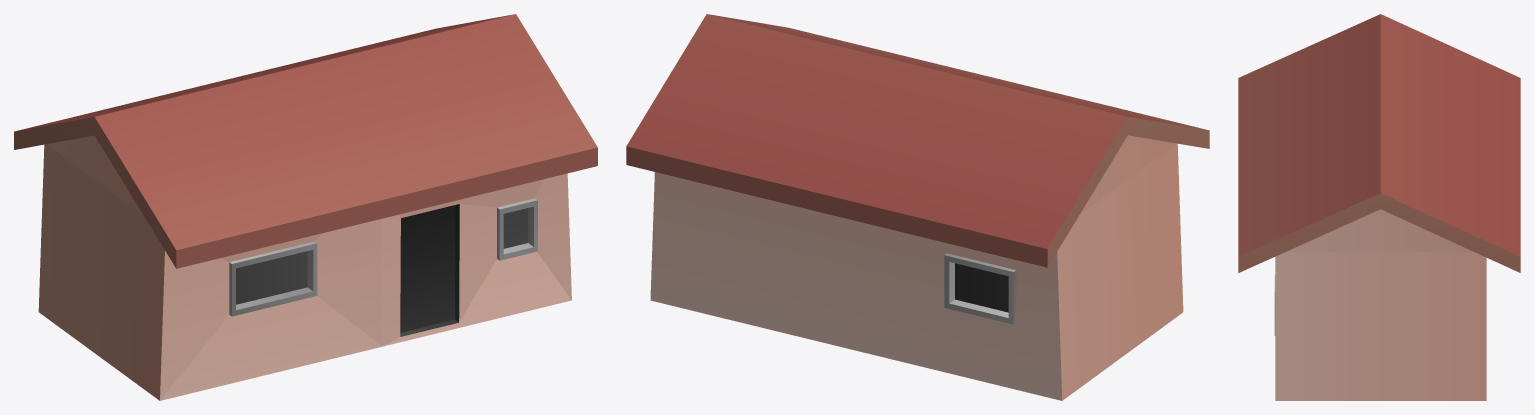
File: Rumah 4.fbx
3 views of the same model, side by side, from view 1: azimuth 30°, elevation 25°; view 2: azimuth 150°, elevation 25°; view 3: azimuth 270°, elevation 25° (orthographic). The views are drawn at different scales.
Visible parts, largest first — view 1: Cube.006, Cube.005; view 2: Cube.006, Cube.005; view 3: Cube.006, Cube.005.
Part boxes in pixels (x1=…): Cube.006: x1=14, y1=14, x2=597, y2=268; Cube.005: x1=38, y1=135, x2=571, y2=400; Cube.006: x1=626, y1=14, x2=1209, y2=267; Cube.005: x1=650, y1=135, x2=1183, y2=400; Cube.006: x1=1238, y1=14, x2=1520, y2=272; Cube.005: x1=1274, y1=209, x2=1486, y2=400.
Size of the model in its own units: 1396 by 763 by 931.
